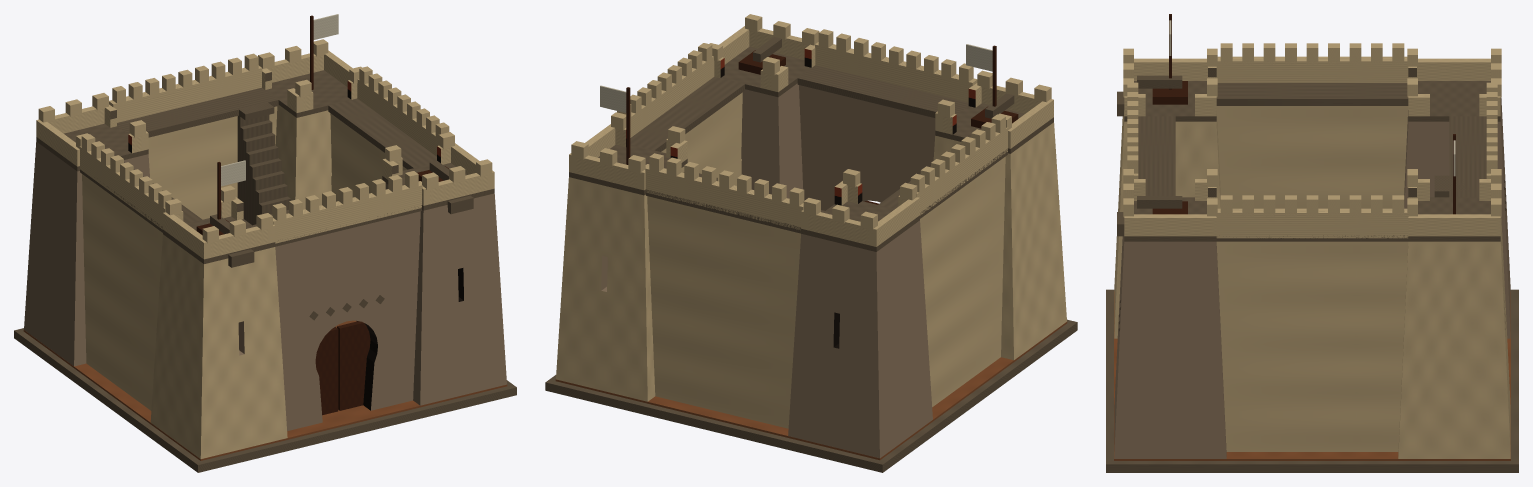
The model's file is Berber_Keep_Age4.fbx.
The picture shows the model from 3 angles, left to right: view 1: azimuth 30°, elevation 25°; view 2: azimuth 150°, elevation 25°; view 3: azimuth 270°, elevation 25°; orthographic projection. The views are drawn at different scales.
Visible parts, largest first — view 1: battered_square_tower, front_gate_wall, battered_square_tower.002, curtain_wall, battered_square_tower.001, foundation, rear_wall, battered_square_tower.003, curtain_parapet.002, courtyard_floor, curtain_parapet.003, curtain_wall.001 (+29 smaller); view 2: rear_wall, battered_square_tower.001, battered_square_tower.003, curtain_wall, battered_square_tower, front_gate_wall, foundation, battered_square_tower.002, curtain_parapet.003, rampart_walk.002, curtain_parapet.002, courtyard_floor (+21 smaller); view 3: curtain_wall.001, battered_square_tower.003, battered_square_tower.002, curtain_wall, foundation, curtain_parapet.001, curtain_parapet, rampart_walk, battered_square_tower, battered_square_tower.001, rampart_walk.002, rampart_walk.003 (+18 smaller).
Part boxes in pixels (x1=…): battered_square_tower: x1=150, y1=234, x2=287, y2=458; front_gate_wall: x1=275, y1=211, x2=420, y2=430; battered_square_tower.002: x1=385, y1=183, x2=506, y2=405; curtain_wall: x1=82, y1=174, x2=162, y2=410; battered_square_tower.001: x1=24, y1=142, x2=149, y2=366; foundation: x1=14, y1=328, x2=516, y2=472; rear_wall: x1=148, y1=106, x2=277, y2=219; battered_square_tower.003: x1=275, y1=105, x2=331, y2=209; curtain_parapet.002: x1=273, y1=183, x2=422, y2=243; courtyard_floor: x1=23, y1=320, x2=507, y2=460; curtain_parapet.003: x1=109, y1=65, x2=262, y2=122; curtain_wall.001: x1=330, y1=113, x2=406, y2=201; rear_wall: x1=647, y1=196, x2=800, y2=428; battered_square_tower.001: x1=788, y1=220, x2=932, y2=458; battered_square_tower.003: x1=556, y1=166, x2=684, y2=401; curtain_wall: x1=920, y1=156, x2=1005, y2=406; battered_square_tower: x1=933, y1=122, x2=1066, y2=360; front_gate_wall: x1=799, y1=85, x2=935, y2=210; foundation: x1=545, y1=319, x2=1077, y2=472; battered_square_tower.002: x1=741, y1=83, x2=803, y2=198; curtain_parapet.003: x1=645, y1=166, x2=803, y2=230; rampart_walk.002: x1=797, y1=65, x2=968, y2=117; curtain_parapet.002: x1=815, y1=42, x2=977, y2=102; courtyard_floor: x1=555, y1=321, x2=1067, y2=460; curtain_wall.001: x1=1216, y1=241, x2=1408, y2=451; battered_square_tower.003: x1=1398, y1=217, x2=1510, y2=458; battered_square_tower.002: x1=1114, y1=231, x2=1226, y2=458; curtain_wall: x1=1216, y1=106, x2=1408, y2=208; foundation: x1=1106, y1=289, x2=1518, y2=472; curtain_parapet.001: x1=1216, y1=208, x2=1408, y2=238; curtain_parapet: x1=1216, y1=56, x2=1408, y2=82; rampart_walk: x1=1216, y1=83, x2=1408, y2=105; battered_square_tower: x1=1114, y1=110, x2=1220, y2=338; battered_square_tower.001: x1=1404, y1=97, x2=1510, y2=338; rampart_walk.002: x1=1138, y1=116, x2=1175, y2=195; rampart_walk.003: x1=1449, y1=116, x2=1486, y2=197.
Bounding box in the file's own units: 770 × 640 × 770.
Materials: 5 (5 with a texture image).
